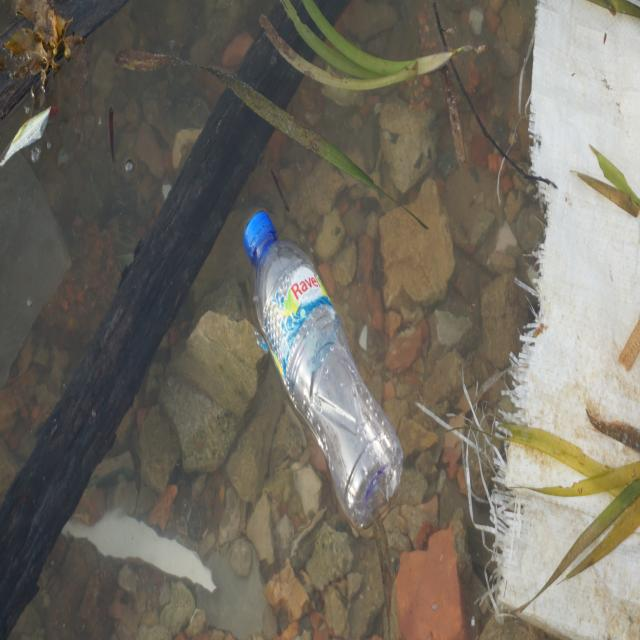Botol Plastik: (243, 207, 405, 539)
